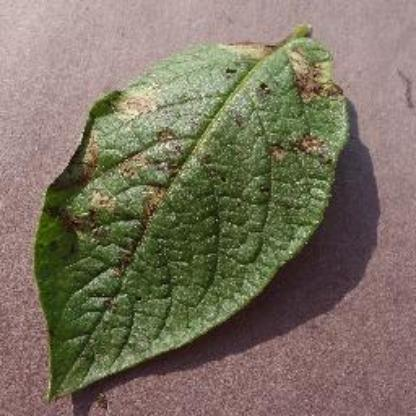Late-Blight: (28, 24, 354, 408)
